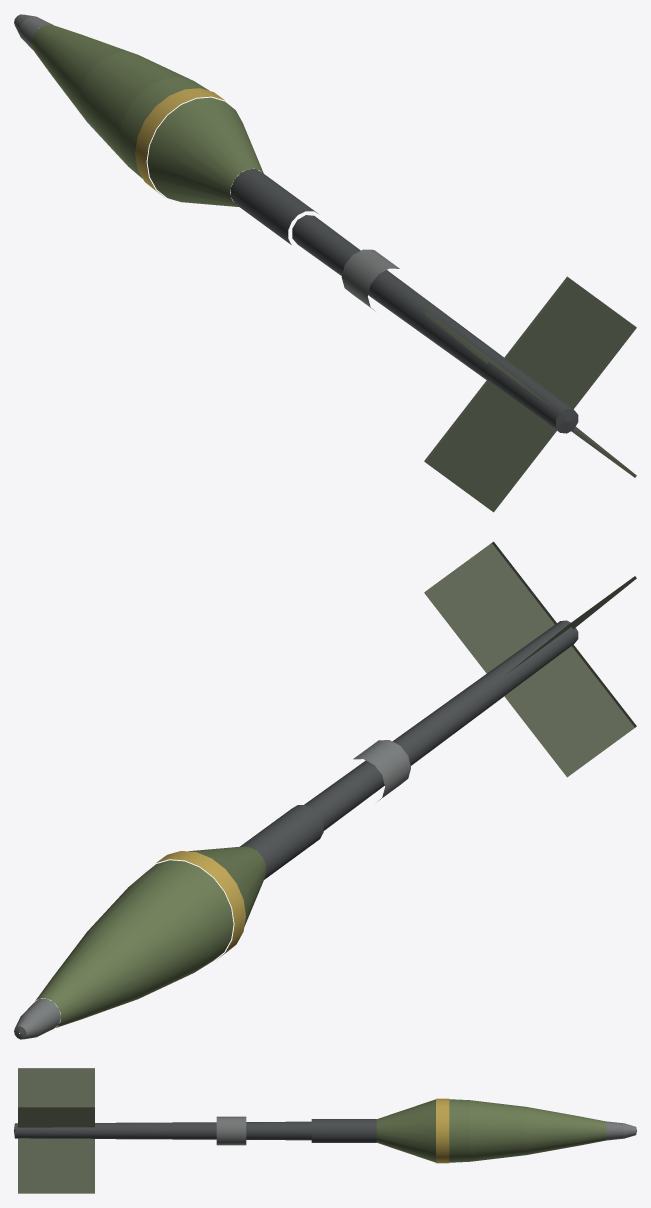
File: rocket.glb
3 renders of one model, top to bottom at view 1: azimuth 30°, elevation 25°; view 2: azimuth 150°, elevation 25°; view 3: azimuth 270°, elevation 25°, orthographic. The views are drawn at different scales.
Visible parts, largest first — view 1: Body; view 2: Body; view 3: Body.
Boxes of the visible parts, <box> form: Body: <box>14,14,636,512</box>; Body: <box>14,541,636,1039</box>; Body: <box>14,1068,636,1193</box>.
Bounding box in the file's own units: 0.1605 × 0.1605 × 1.05.
